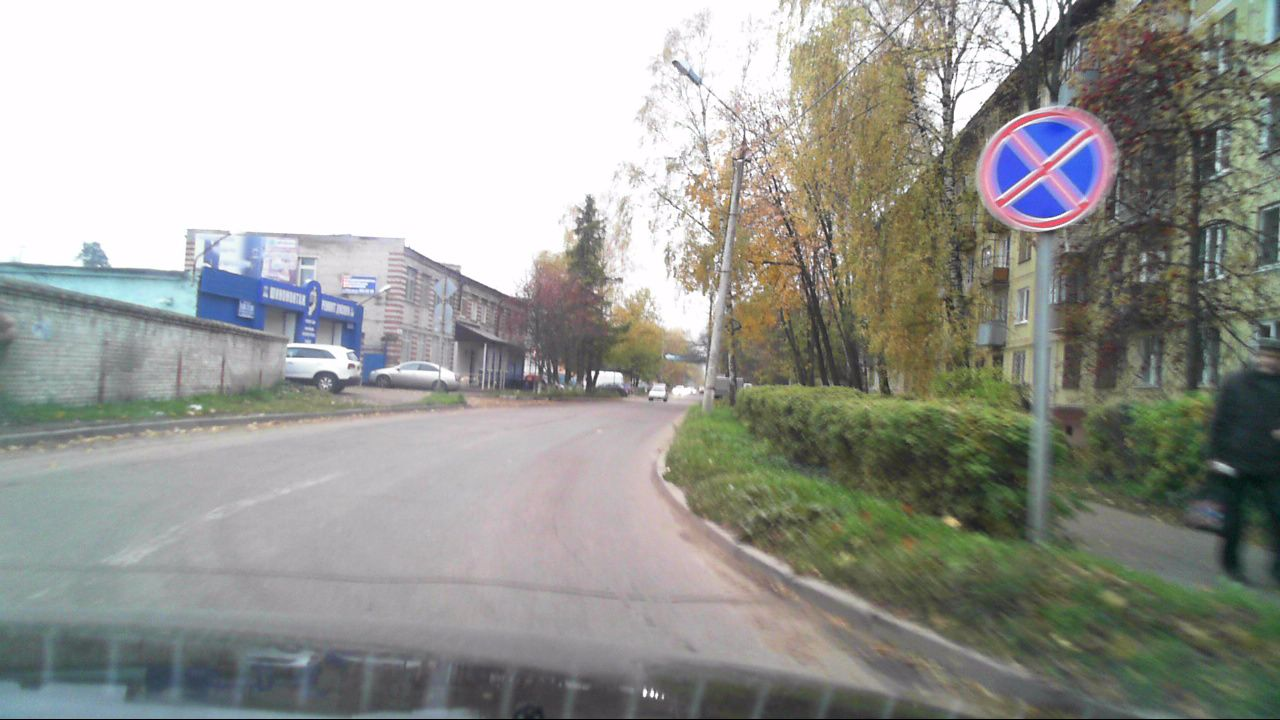No Parking: (978, 107, 1114, 234)
